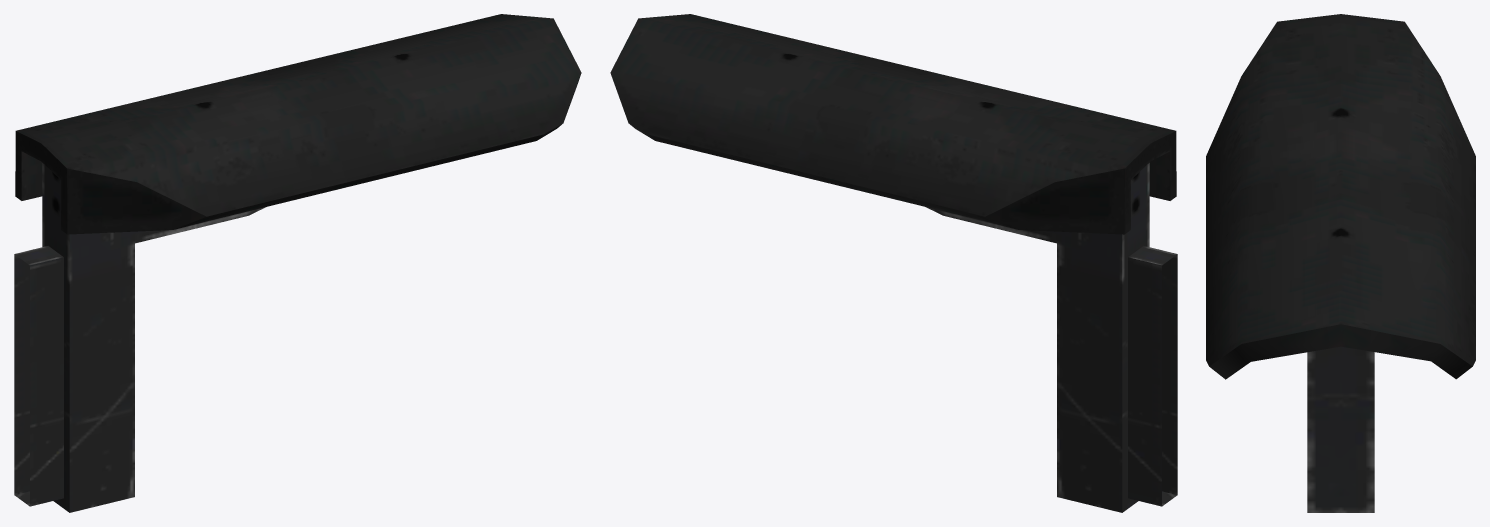
Rendered from ST_Stock_CheekPad_MK14.FBX.
3 views of the same model, side by side, from view 1: azimuth 30°, elevation 25°; view 2: azimuth 150°, elevation 25°; view 3: azimuth 270°, elevation 25° (orthographic). The views are drawn at different scales.
Visible parts, largest first — view 1: ST_Stock_CheekPad_MK14; view 2: ST_Stock_CheekPad_MK14; view 3: ST_Stock_CheekPad_MK14.
Boxes of the visible parts, box(x1,y1,x2,y2) form: ST_Stock_CheekPad_MK14: box(14, 14, 581, 512); ST_Stock_CheekPad_MK14: box(610, 14, 1177, 512); ST_Stock_CheekPad_MK14: box(1206, 14, 1475, 512).
Bounding box in the file's own units: 13.23 × 8.64 × 4.69.
Materials: 1 (1 with a texture image).
